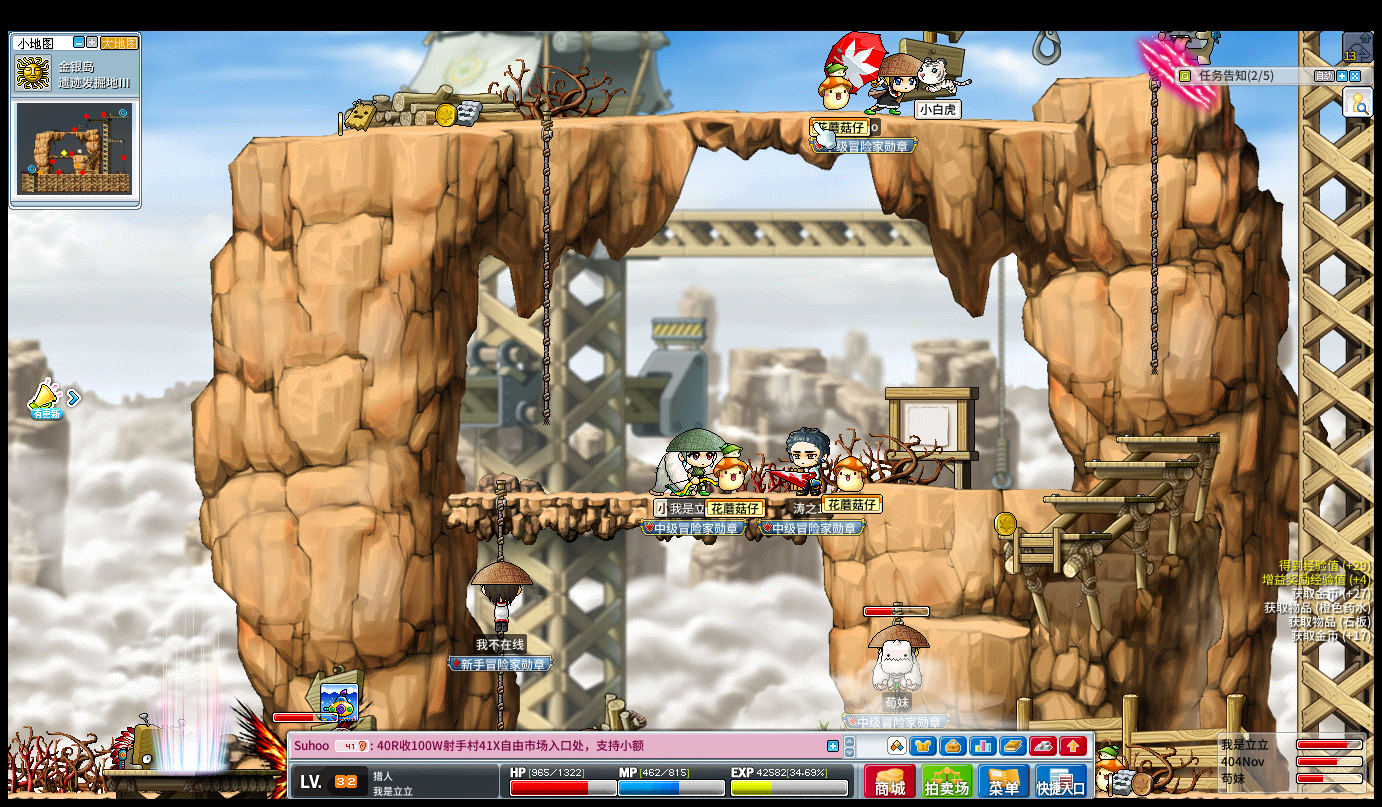floor: (220, 107, 1082, 143), (447, 492, 821, 502), (922, 616, 1030, 637), (901, 484, 1077, 493), (1054, 72, 1159, 87), (908, 486, 1075, 495), (1114, 434, 1221, 446), (1079, 459, 1195, 468), (996, 532, 1109, 541), (1044, 494, 1156, 502)
rope: (1146, 60, 1161, 374), (539, 111, 551, 427), (492, 482, 505, 560), (496, 671, 505, 725)
